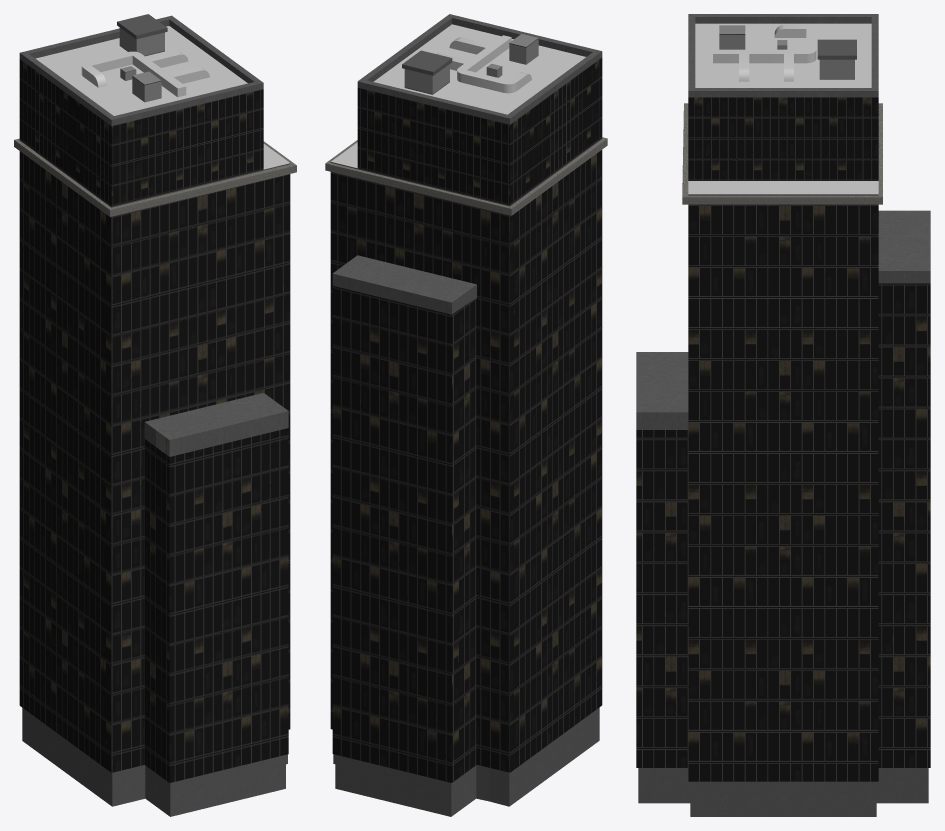
File: SM_Building2.FBX
The picture shows the model from 3 angles, left to right: view 1: azimuth 30°, elevation 25°; view 2: azimuth 150°, elevation 25°; view 3: azimuth 270°, elevation 25°; orthographic projection. The views are drawn at different scales.
Parts seen in each view (by area): view 1: SM_Building2; view 2: SM_Building2; view 3: SM_Building2.
Boxes of the visible parts, x1=… form: SM_Building2: x1=14, y1=14, x2=296, y2=816; SM_Building2: x1=325, y1=14, x2=607, y2=816; SM_Building2: x1=636, y1=14, x2=930, y2=816.
Size of what is drawn, in the model's own units: 5942 by 7851 by 21538.
